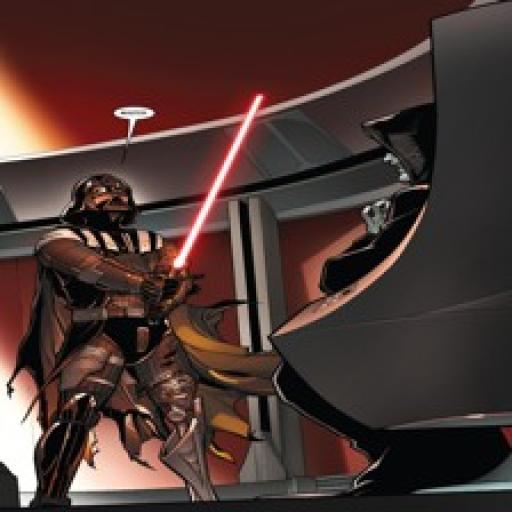human: (23, 163, 202, 508)
sith saber: (152, 88, 276, 301)
